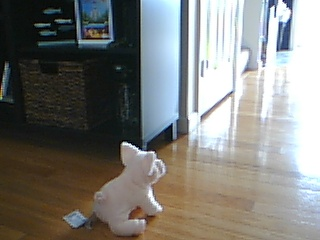piggy: (92, 140, 167, 237)
